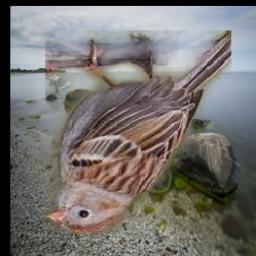Sparrow: (46, 32, 232, 235)
